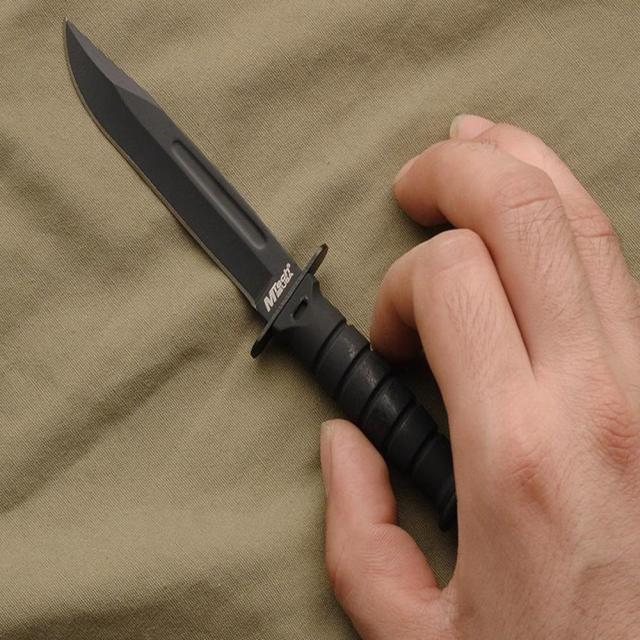knife: (49, 7, 372, 411)
